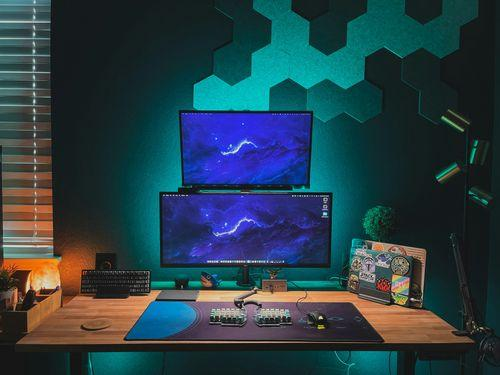keyboard: (78, 265, 152, 296), (209, 304, 294, 328)
laptop: (349, 246, 415, 309)
monitor: (157, 187, 335, 272), (175, 105, 316, 191)
mouse: (305, 305, 332, 326)
